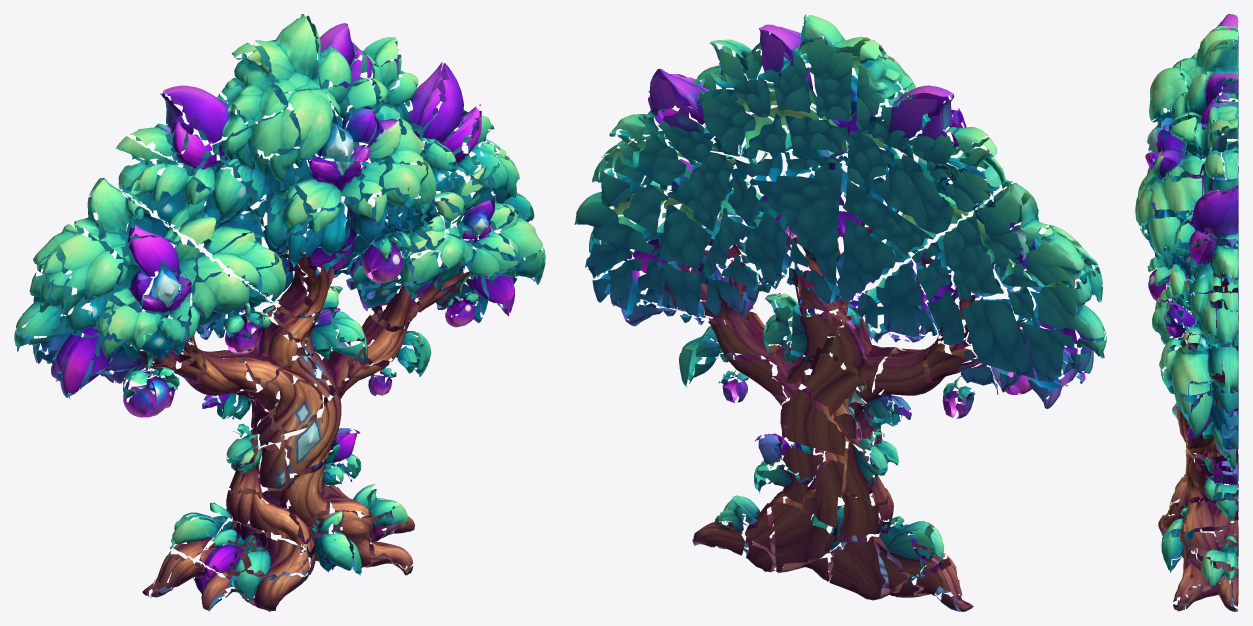
Rendered from arbre_1.glb.
The picture shows the model from 3 angles, left to right: view 1: azimuth 30°, elevation 25°; view 2: azimuth 150°, elevation 25°; view 3: azimuth 270°, elevation 25°; orthographic projection. The views are drawn at different scales.
Parts seen in each view (by area): view 1: mesh_node; view 2: mesh_node; view 3: mesh_node.
Boxes of the visible parts, left/top/right/bottom form: mesh_node: left=14, top=14, right=545, bottom=611; mesh_node: left=574, top=14, right=1106, bottom=611; mesh_node: left=1135, top=14, right=1238, bottom=611.
Bounding box in the file's own units: 0.1159 × 0.1196 × 0.0209.
Materials: 1 (1 with a texture image).
